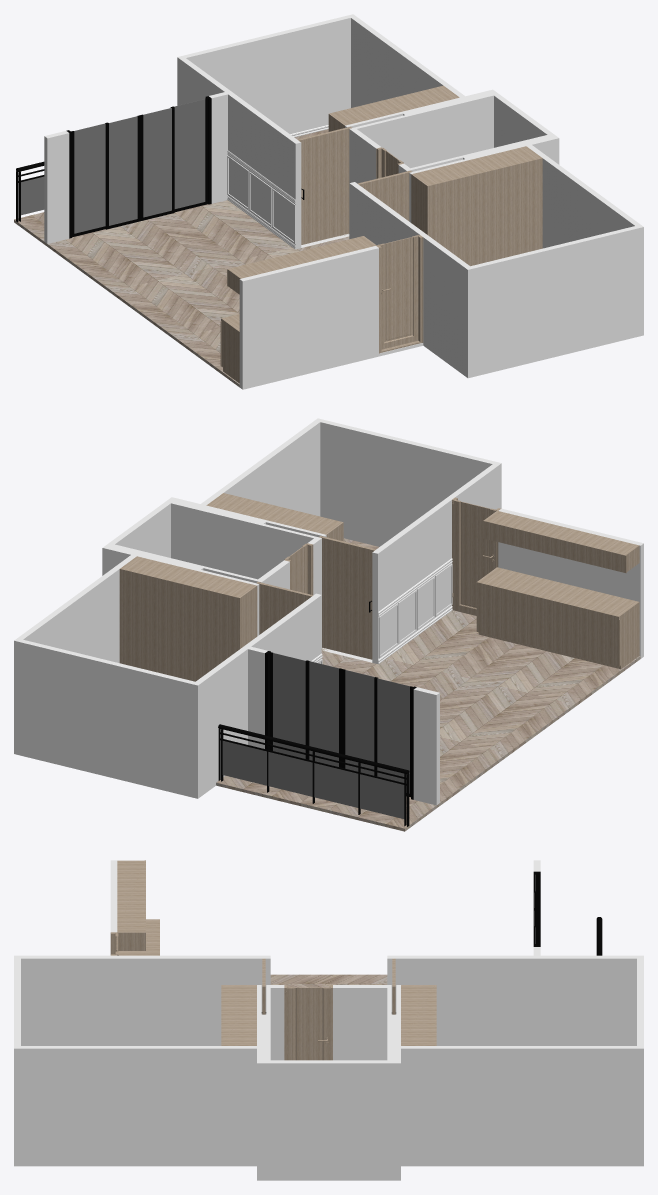
Rendered from Functional _Space_Room 30_SKP2013.glb.
3 views of the same model, one above another, from view 1: azimuth 30°, elevation 25°; view 2: azimuth 150°, elevation 25°; view 3: azimuth 270°, elevation 25° (orthographic). The views are drawn at different scales.
Visible parts, largest first — view 1: Component#30 (C-Component#30), Component#47 (C-Component#47), Component#49 (C-Component#49), Component#28 (C-Component#28), Component#2 (C-Component#2), Component#4 (C-Component#4), Component#64 (C-Component#64), Component#45 (C-Component#45), Component#89 (C-Component#89), Component#3 (C-Component#3), Component#48 (C-Component#48), Component#14 (C-Component#14) (+23 smaller); view 2: Component#47 (C-Component#47), Component#28 (C-Component#28), Component#30 (C-Component#30), Component#1 (C-Component#1), Component#2 (C-Component#2), Component#64 (C-Component#64), Component#3 (C-Component#3), Component#84 (C-Component#84), Component#45 (C-Component#45), Component#14 (C-Component#14), Component#49 (C-Component#49), Component#48 (C-Component#48) (+35 smaller); view 3: Component#3 (C-Component#3), Component#45 (C-Component#45), Component#2 (C-Component#2), Component#64 (C-Component#64), Component#46 (C-Component#46), Component#27 (C-Component#27), Component#14 (C-Component#14), Component#43 (C-Component#43), Component#1 (C-Component#1), Component#4 (C-Component#4), Component#22 (C-Component#22), Component#47 (C-Component#47) (+4 smaller).
Boxes of the visible parts, box(x1,y1,x2,y2) form: Component#30 (C-Component#30): box(464, 226, 638, 378); Component#47 (C-Component#47): box(47, 129, 349, 387); Component#49 (C-Component#49): box(239, 246, 423, 389); Component#28 (C-Component#28): box(183, 15, 350, 134); Component#2 (C-Component#2): box(177, 56, 301, 249); Component#4 (C-Component#4): box(301, 89, 498, 247); Component#64 (C-Component#64): box(355, 186, 469, 375); Component#45 (C-Component#45): box(526, 145, 643, 336); Component#89 (C-Component#89): box(297, 126, 351, 244); Component#3 (C-Component#3): box(348, 14, 464, 107); Component#48 (C-Component#48): box(44, 92, 227, 243); Component#14 (C-Component#14): box(329, 86, 541, 234); Component#47 (C-Component#47): box(321, 538, 640, 805); Component#28 (C-Component#28): box(19, 639, 194, 797); Component#30 (C-Component#30): box(320, 419, 501, 546); Component#1 (C-Component#1): box(165, 497, 384, 663); Component#2 (C-Component#2): box(192, 593, 321, 798); Component#64 (C-Component#64): box(379, 464, 498, 654); Component#3 (C-Component#3): box(14, 555, 136, 755); Component#84 (C-Component#84): box(319, 536, 375, 659); Component#45 (C-Component#45): box(201, 418, 322, 516); Component#14 (C-Component#14): box(121, 493, 342, 648); Component#49 (C-Component#49): box(498, 508, 643, 658); Component#48 (C-Component#48): box(248, 646, 439, 805); Component#3 (C-Component#3): box(401, 1046, 643, 1166); Component#45 (C-Component#45): box(14, 1046, 256, 1166); Component#2 (C-Component#2): box(387, 955, 643, 1045); Component#64 (C-Component#64): box(21, 955, 256, 1045); Component#46 (C-Component#46): box(270, 1060, 387, 1180); Component#27 (C-Component#27): box(270, 985, 387, 1060); Component#14 (C-Component#14): box(223, 985, 434, 1045); Component#43 (C-Component#43): box(286, 987, 330, 1060); Component#1 (C-Component#1): box(257, 955, 270, 1180); Component#4 (C-Component#4): box(387, 985, 400, 1180); Component#22 (C-Component#22): box(117, 860, 144, 950); Component#47 (C-Component#47): box(270, 974, 387, 987).
Size of the model in its own units: 7.02 by 1.89 by 9.2.
7 materials, 2 textured.
